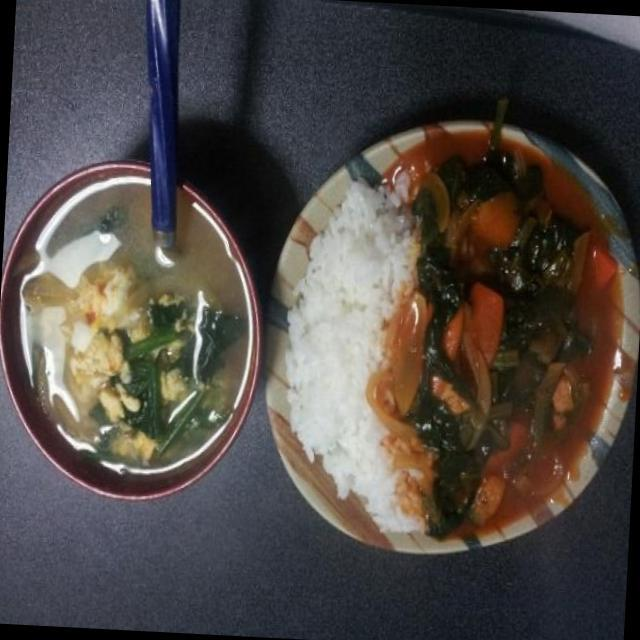Beef Curry: (399, 150, 612, 544)
